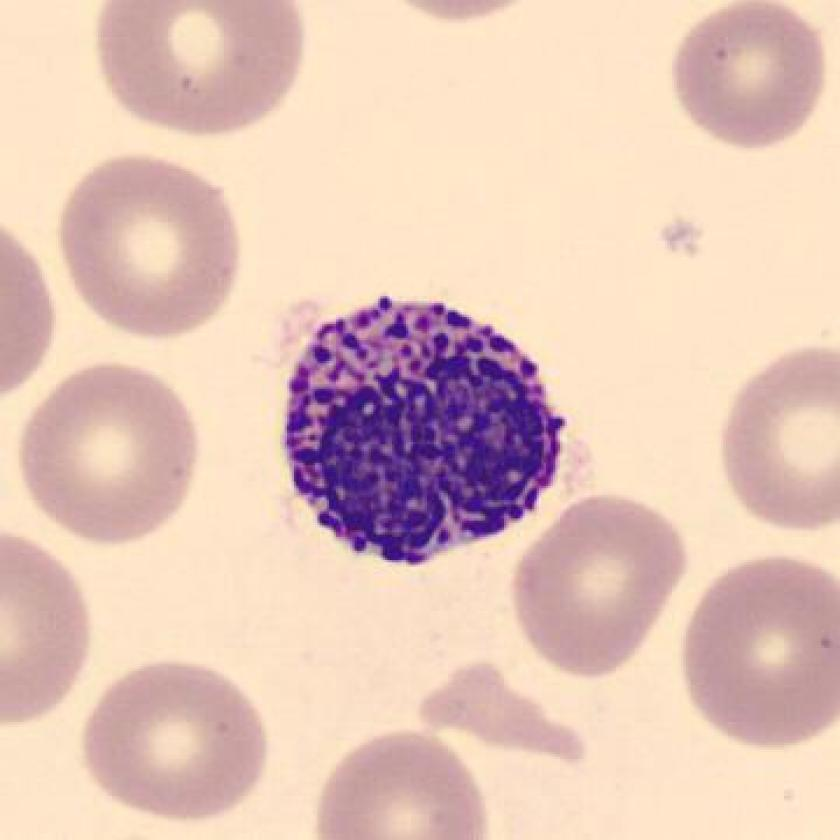basophil: (272, 290, 575, 573)
